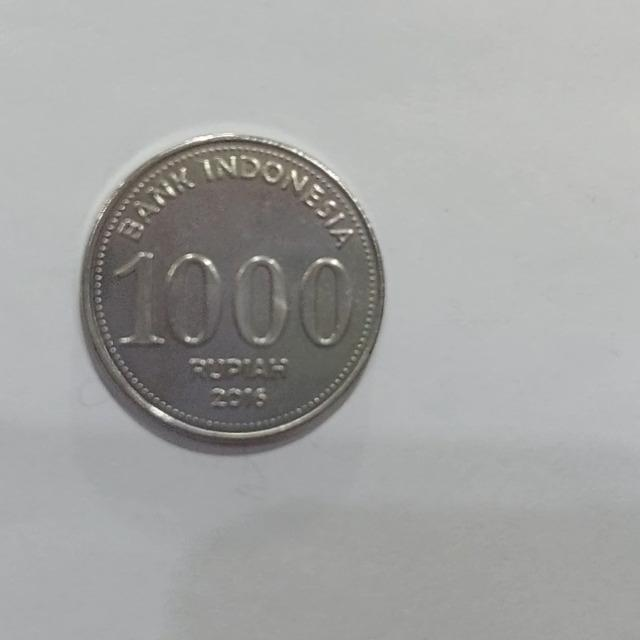Rp100: (78, 130, 387, 449)
